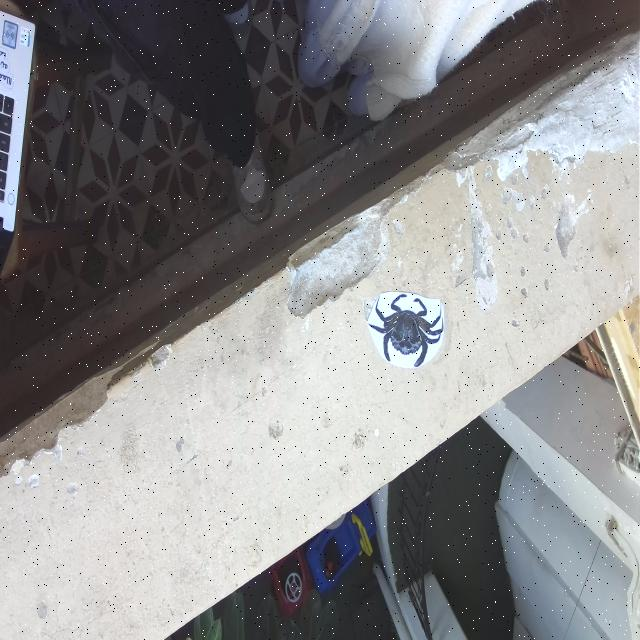European_Green_Crab: (366, 285, 446, 373)
